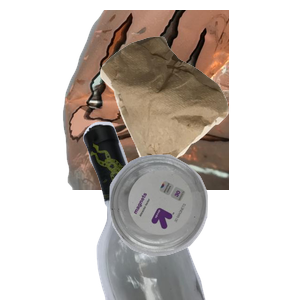glass: (81, 120, 300, 300)
metal: (60, 10, 300, 190)
plastic: (107, 152, 300, 300)
trash: (98, 34, 300, 211)
